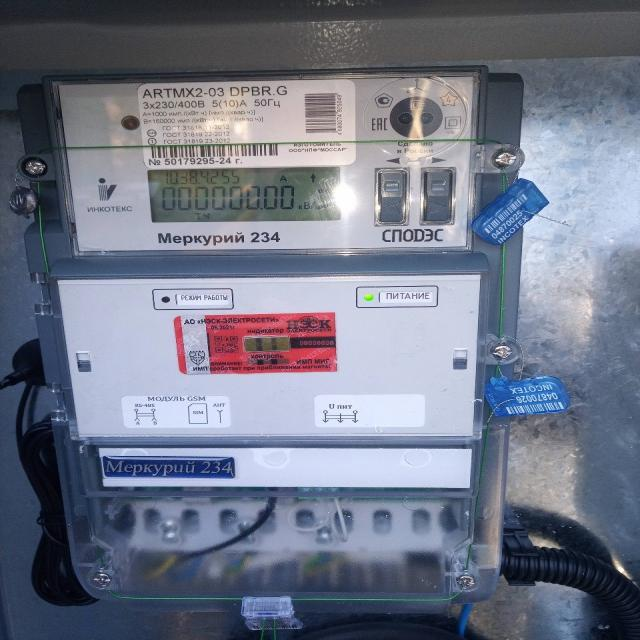Display: (148, 168, 339, 222)
seal_elso: (243, 592, 307, 633)
seal_imp: (172, 314, 339, 374)
seal_mercury: (11, 71, 526, 603)
